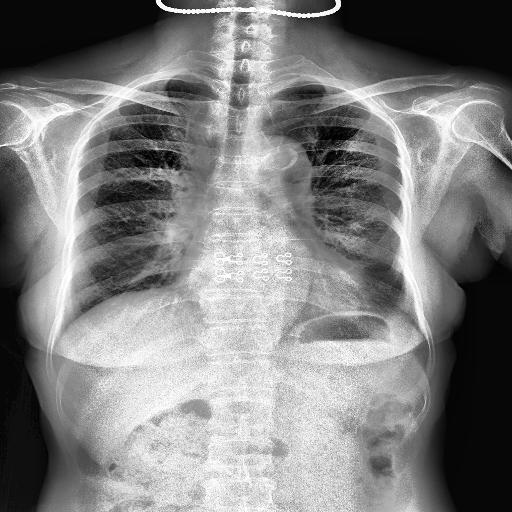0- Aortic enlargement: (248, 138, 312, 201), (245, 134, 309, 193), (262, 136, 312, 184)
3- Cardiomegaly: (170, 252, 378, 312), (178, 254, 384, 308), (178, 263, 366, 312)
